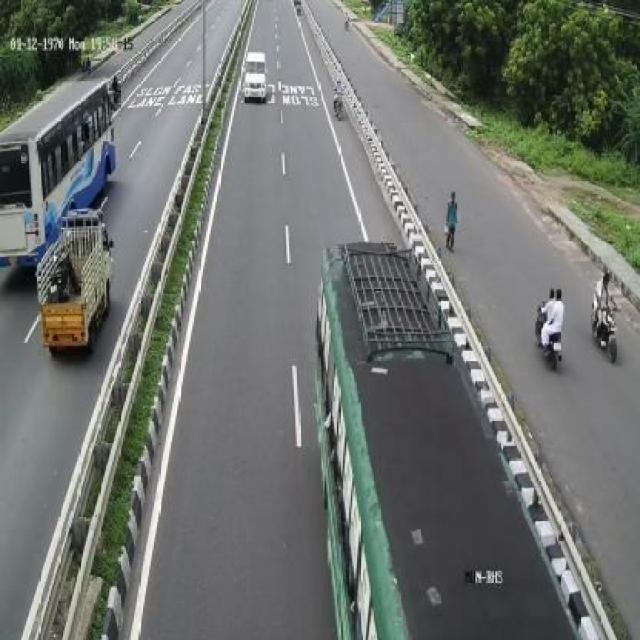car: (244, 48, 270, 106)
